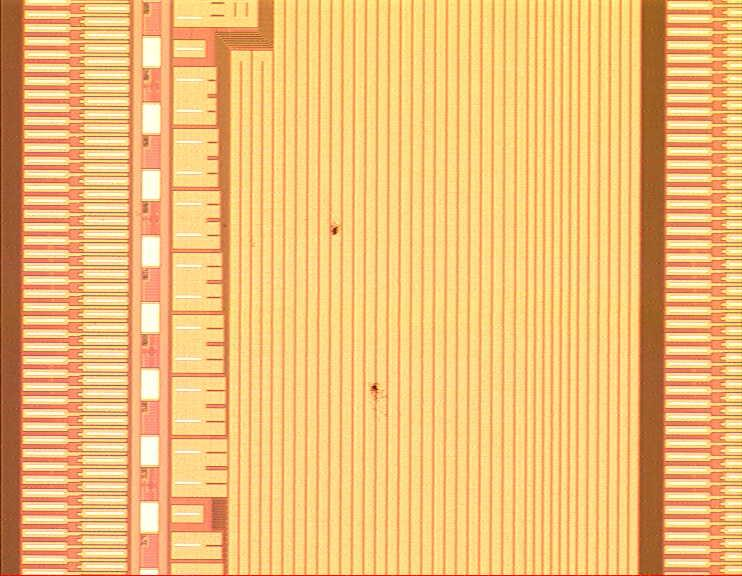PO CONTAMINATION: (323, 216, 396, 423)
